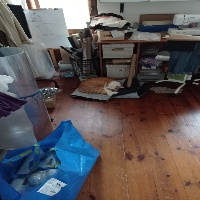asleep: (78, 77, 124, 95)
